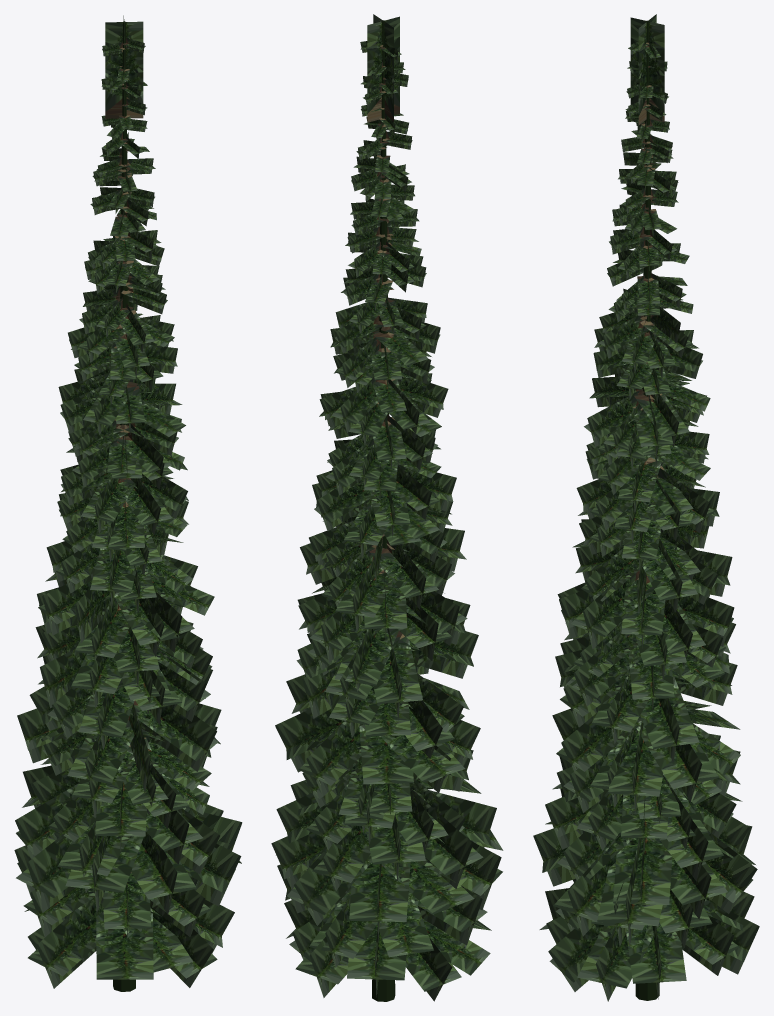
File: category_mesh_tree_1.glb
3 renders of one model, left to right at view 1: azimuth 30°, elevation 25°; view 2: azimuth 150°, elevation 25°; view 3: azimuth 270°, elevation 25°, orthographic.
Parts seen in each view (by area): view 1: category_mesh_tree_1; view 2: category_mesh_tree_1; view 3: category_mesh_tree_1.
Boxes of the visible parts, x1,y1,x2,y2 form: category_mesh_tree_1: [14, 15, 242, 991]; category_mesh_tree_1: [271, 14, 503, 1001]; category_mesh_tree_1: [533, 14, 759, 1001].
Bounding box in the file's own units: 3.84 × 16.51 × 3.48.
1 material, 1 textured.
